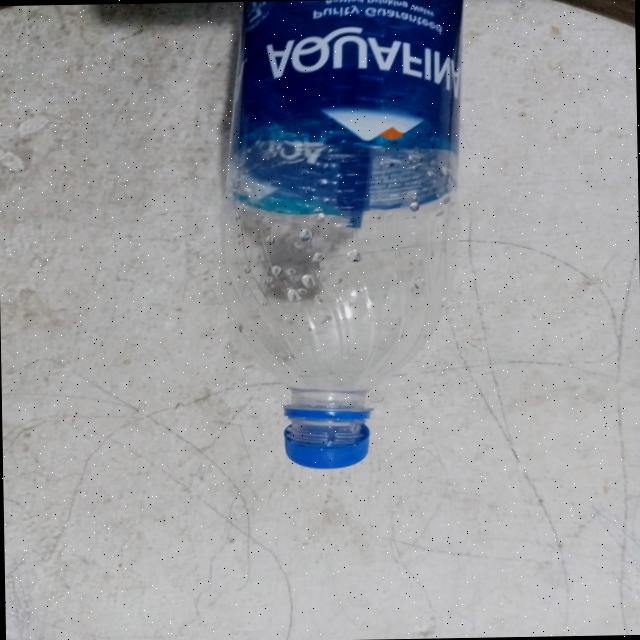bottle: (214, 0, 462, 476)
cap: (268, 392, 390, 473)
label: (218, 0, 459, 166)
